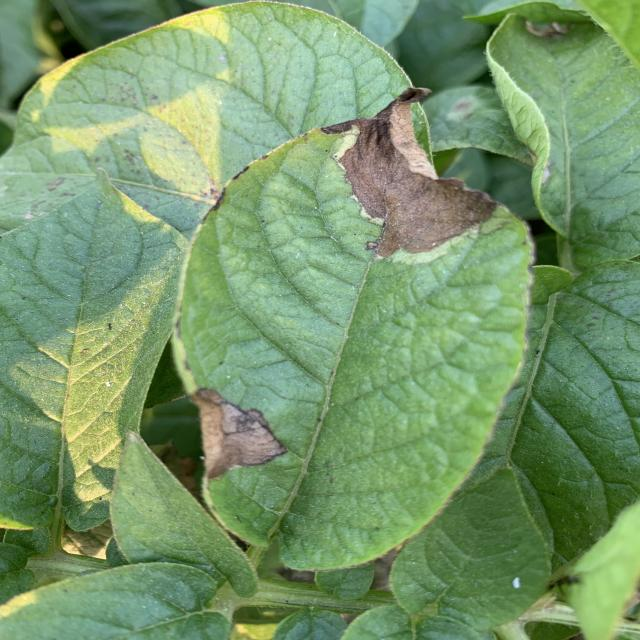lateblight: (322, 88, 497, 258), (192, 389, 287, 479)
